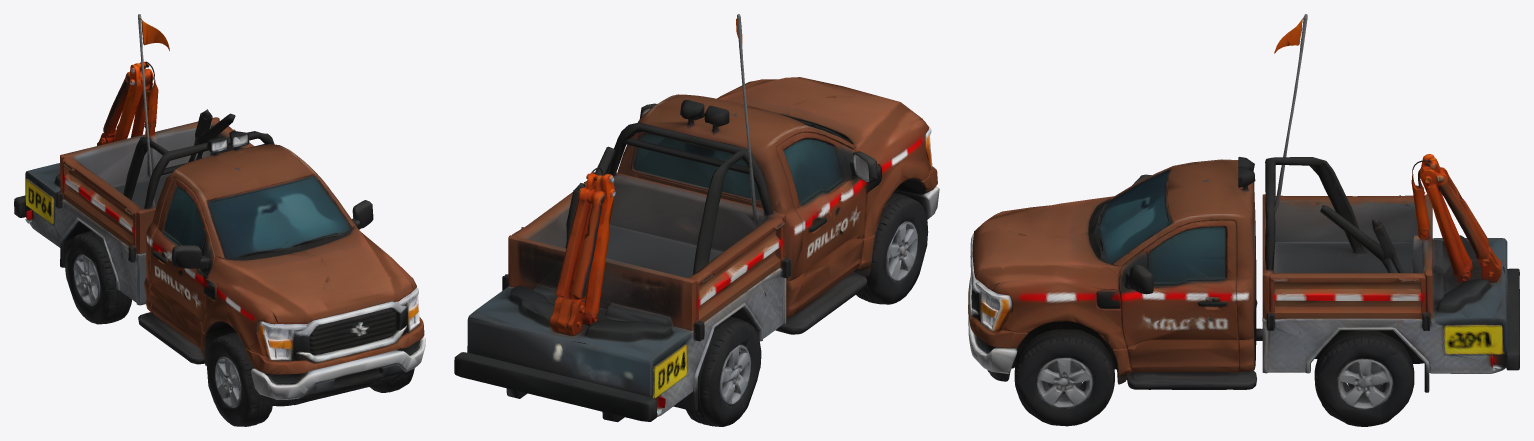
Rendered from DRILLTRUCK_optimized.glb.
The picture shows the model from 3 angles, left to right: view 1: azimuth 30°, elevation 25°; view 2: azimuth 150°, elevation 25°; view 3: azimuth 270°, elevation 25°; orthographic projection. The views are drawn at different scales.
Visible parts, largest first — view 1: model; view 2: model; view 3: model.
Part boxes in pixels (box(x1,y1,x2,y2)): model: box(14, 14, 425, 426); model: box(454, 14, 939, 426); model: box(968, 14, 1519, 426).
Bounding box in the file's own units: 27588 × 42505 × 62338.
1 material, 1 textured.
